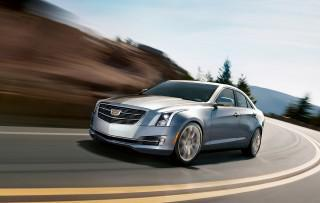cadillac: (108, 105, 123, 117)
